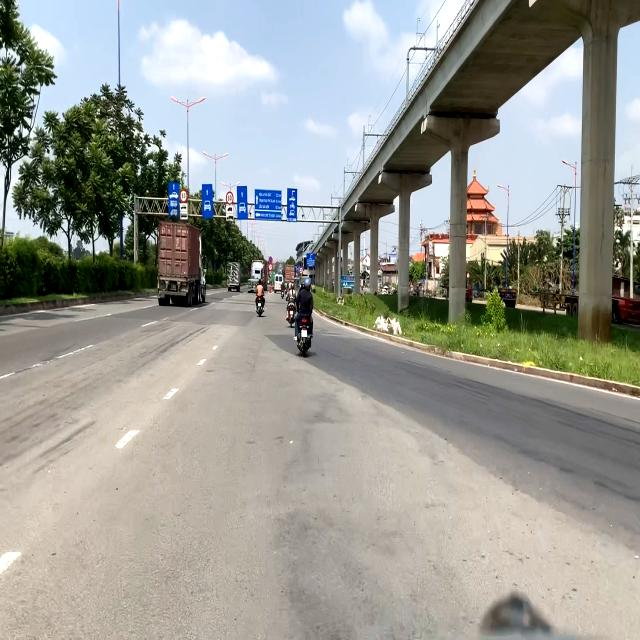P.127: (226, 191, 234, 205), (180, 189, 187, 203)
P.130: (268, 256, 272, 264)
